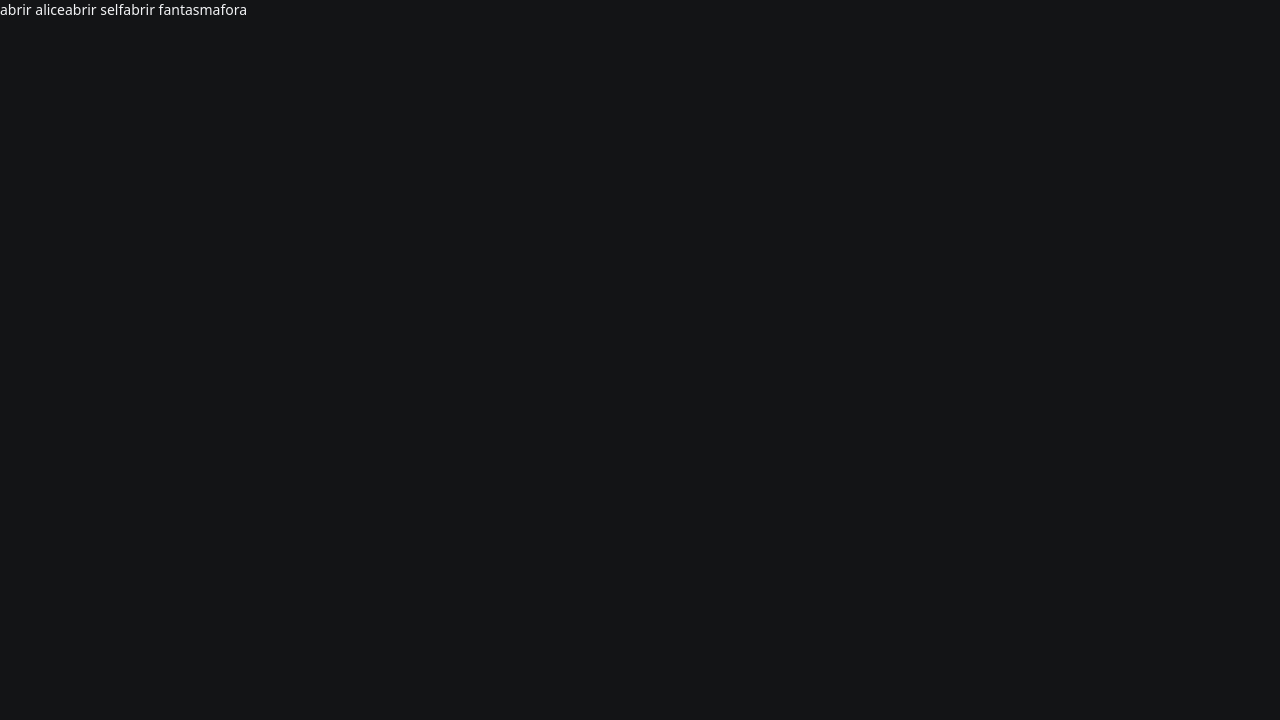
Scenario: UserProfilePopover › mostra indisponivel quando a conta nao existe mais
Click the button "abrir fantasma" at (141, 10), box [123,0,220,19]
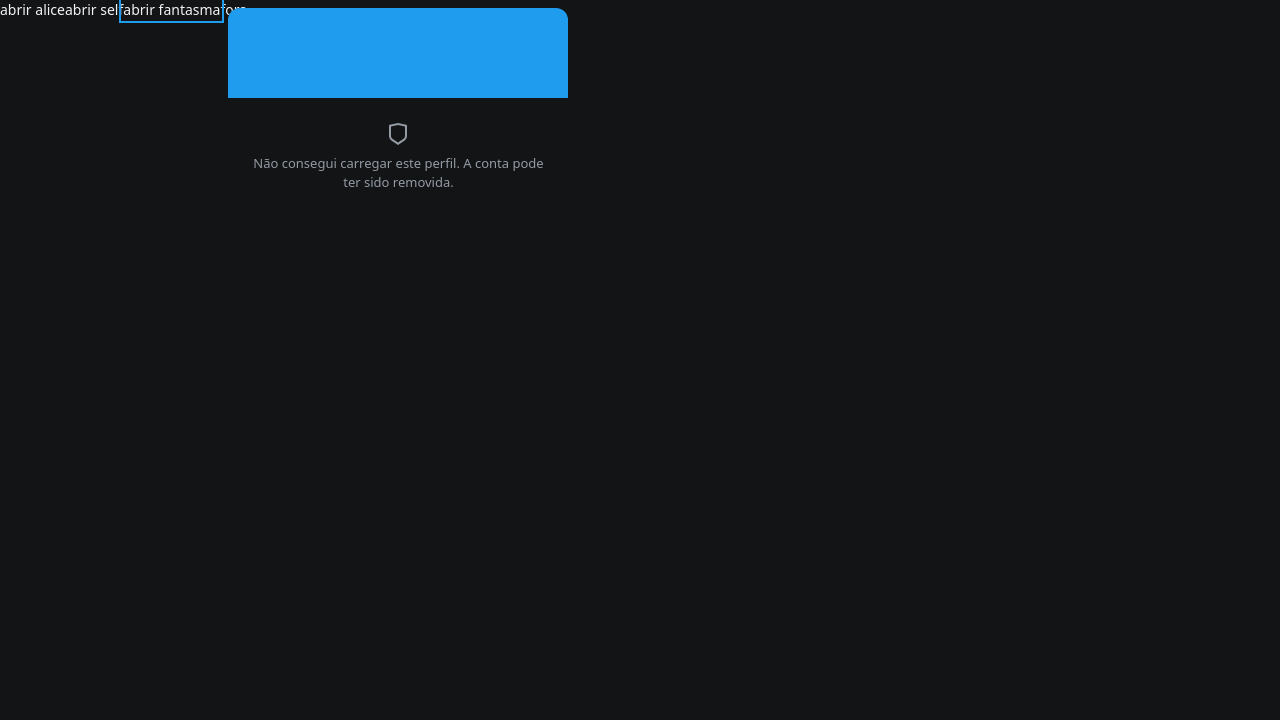
Now the message "Não consegui carregar este perfil. A conta pode ter sido removida." is shown, box [253,122,544,191]
Now the text "conta pode ter sido removida" is shown, box [253,154,544,191]
